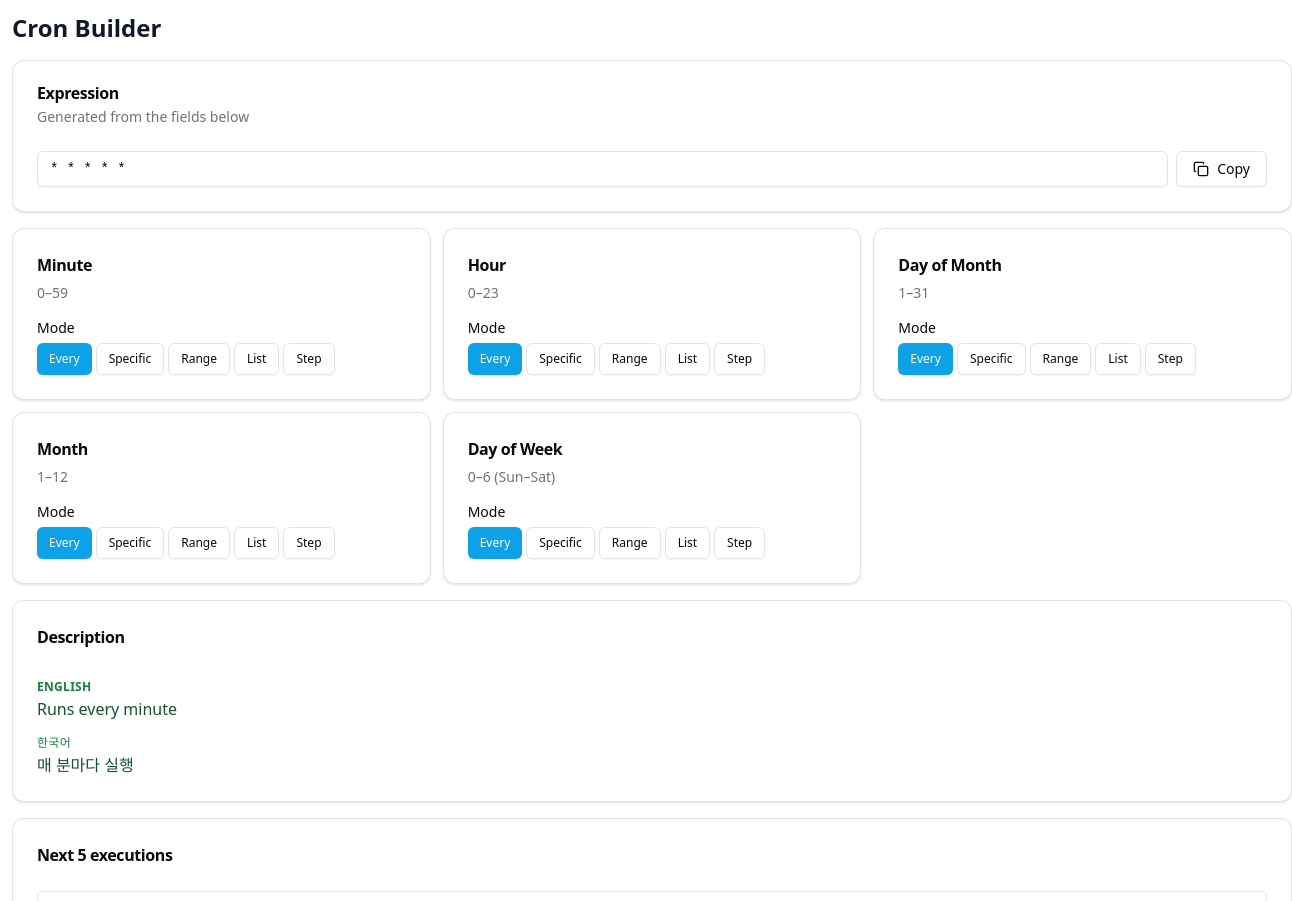
Test: CronBuilder › mode interactions › setting weekday to list 1,3,5 produces * * * * 1,3,5
The image size is (1292, 901).
Click the button "list" below "0–6 (Sun–Sat)": (687,543) [665, 527, 710, 559]
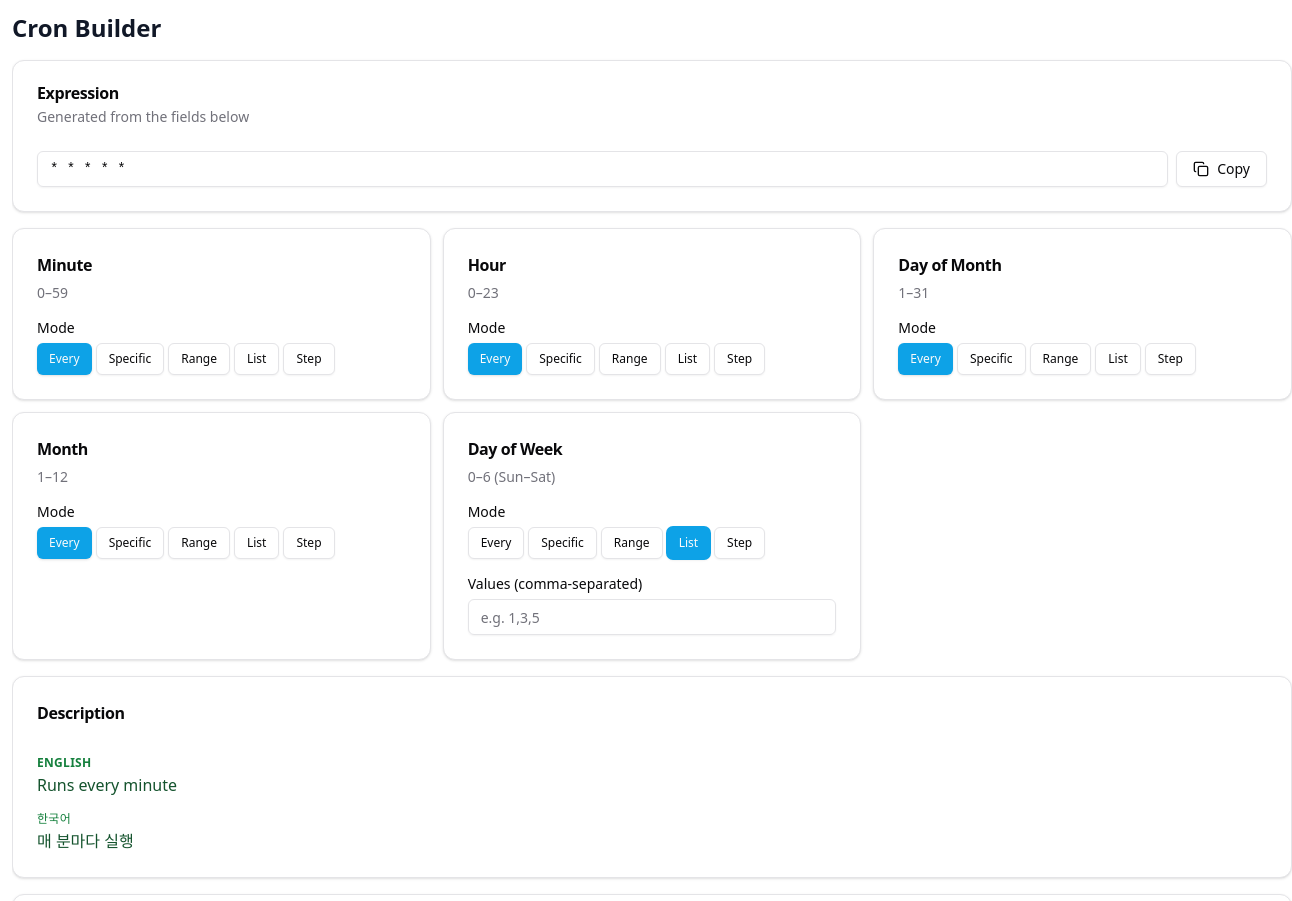
In the field with test id "list-weekday": (652,617) [468, 599, 836, 635], type "1,3,5"
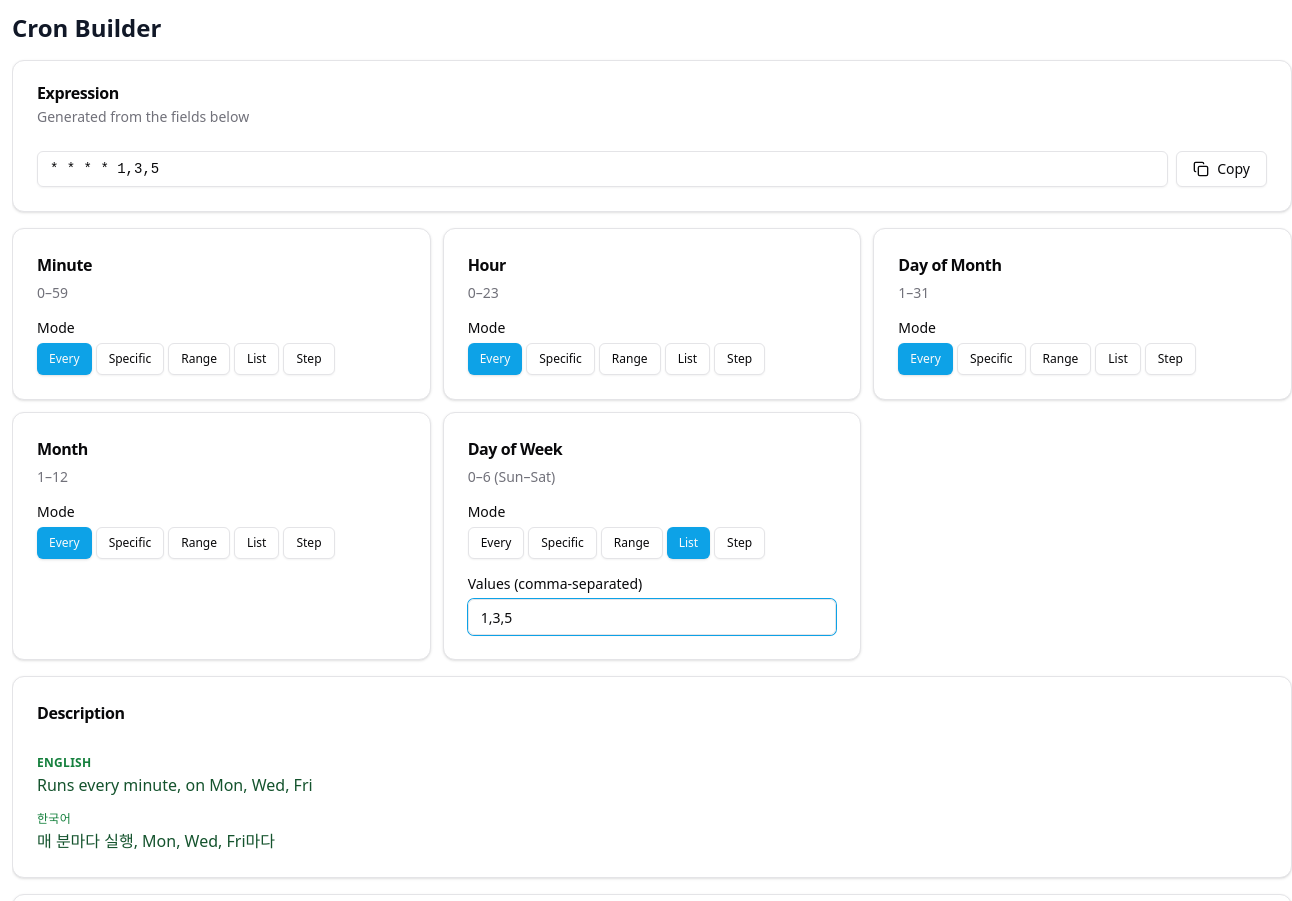
Expected: the field with test id "cron-output" holds "* * * * 1,3,5", [37, 151, 1168, 187]
